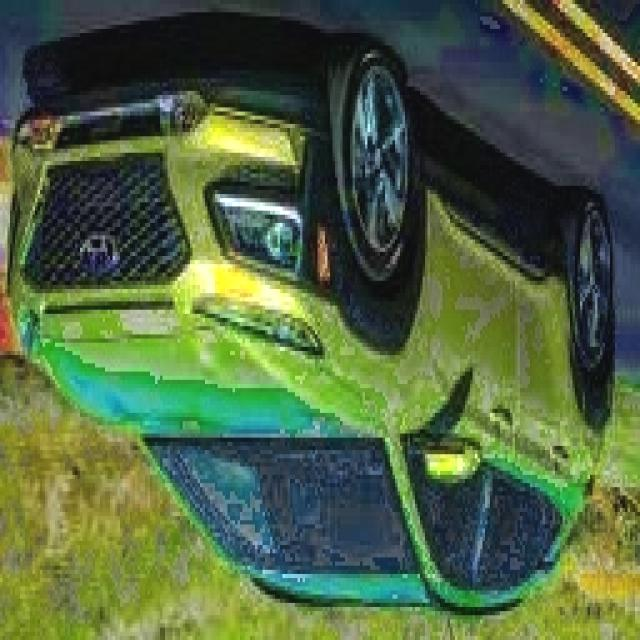green: (12, 33, 618, 611)
